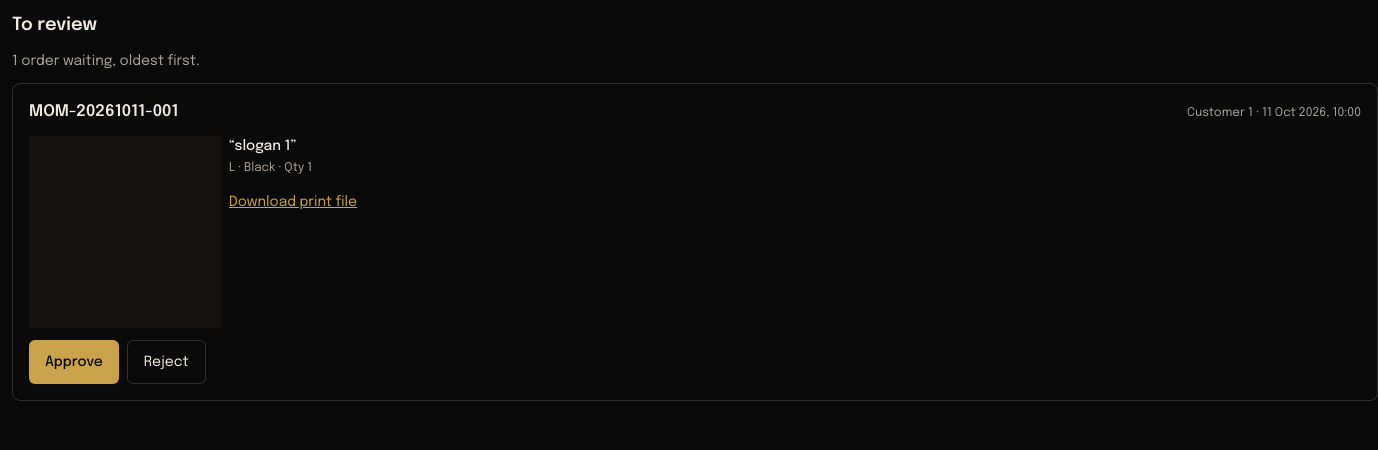
Test case: ModerationQueue › explains a refused approval
Step 1. Click the button with aria-label "Approve MOM-20261011-001" → (74, 362), box x1=29 y1=340 x2=119 y2=384
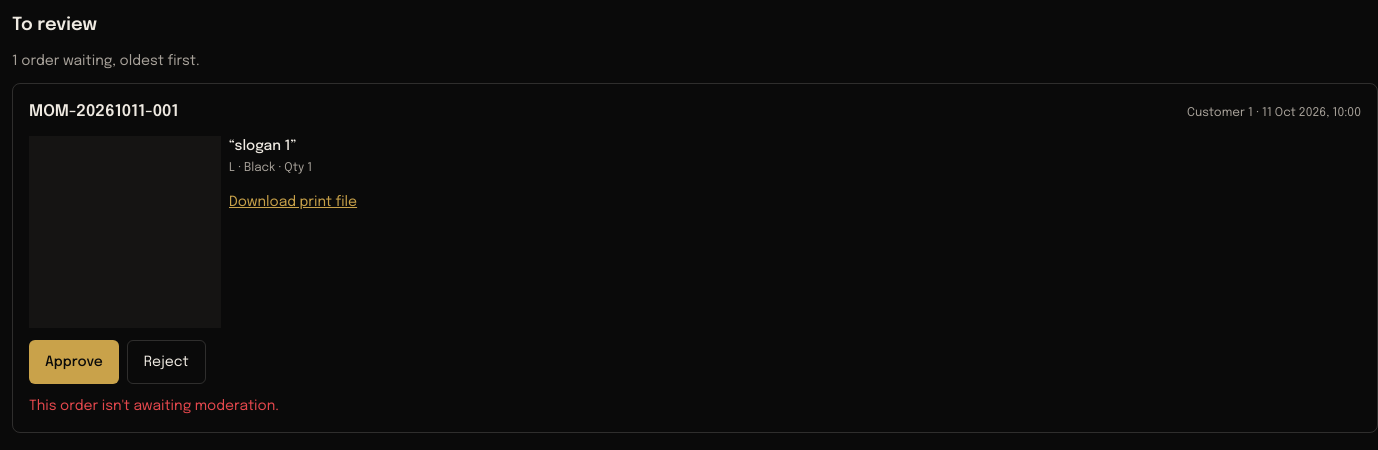
Check: the message shows "isn't awaiting moderation", box x1=29 y1=399 x2=279 y2=413
